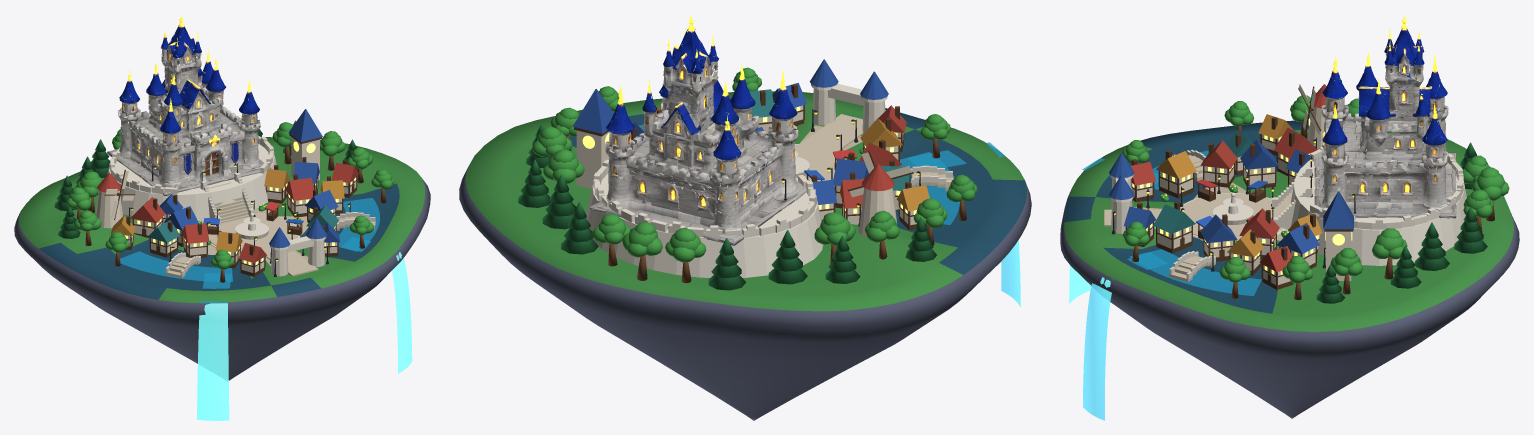
Rendered from kingdom_town_diorama.glb.
3 renders of one model, left to right at view 1: azimuth 30°, elevation 25°; view 2: azimuth 150°, elevation 25°; view 3: azimuth 270°, elevation 25°, orthographic. The views are drawn at different scales.
Visible parts, largest first — view 1: Island_Kingdom_Town_Base, Castle_Kingdom_Town_Hero, Water_Waterfalls_Animated, Kingdom_Citadel_Terrace, Town_Broadleaf_Foliage, Town_Buildings_Plaster, Town_Buildings_Timber, Town_Marble_Fountain_Gate, Town_Roofs_Blue, Water_Moat_Animated, Town_Cobblestone_Stairs_Plaza, Town_Roofs_Red (+7 smaller); view 2: Island_Kingdom_Town_Base, Castle_Kingdom_Town_Hero, Town_Broadleaf_Foliage, Kingdom_Citadel_Terrace, Town_Pine_Foliage, Town_Roofs_Blue, Town_Buildings_Plaster, Town_Marble_Fountain_Gate, Town_Cobblestone_Stairs_Plaza, Town_Roofs_Red, Town_Buildings_Timber, Water_Moat_Animated (+5 smaller); view 3: Island_Kingdom_Town_Base, Castle_Kingdom_Town_Hero, Town_Broadleaf_Foliage, Kingdom_Citadel_Terrace, Town_Buildings_Timber, Town_Buildings_Plaster, Town_Roofs_Blue, Town_Pine_Foliage, Water_Waterfalls_Animated, Town_Roofs_Red, Town_Marble_Fountain_Gate, Town_Cobblestone_Stairs_Plaza (+6 smaller).
Part boxes in pixels (<box>): Island_Kingdom_Town_Base: <box>14,137,430,380</box>; Castle_Kingdom_Town_Hero: <box>107,15,271,195</box>; Water_Waterfalls_Animated: <box>197,252,412,420</box>; Kingdom_Citadel_Terrace: <box>107,126,276,222</box>; Town_Broadleaf_Foliage: <box>66,115,394,269</box>; Town_Buildings_Plaster: <box>96,137,356,272</box>; Town_Buildings_Timber: <box>126,134,357,276</box>; Town_Marble_Fountain_Gate: <box>165,172,375,276</box>; Town_Roofs_Blue: <box>160,109,340,248</box>; Water_Moat_Animated: <box>120,198,400,303</box>; Town_Cobblestone_Stairs_Plaza: <box>165,182,375,277</box>; Town_Roofs_Red: <box>97,162,358,262</box>; Island_Kingdom_Town_Base: <box>459,91,1031,420</box>; Castle_Kingdom_Town_Hero: <box>589,14,806,245</box>; Town_Broadleaf_Foliage: <box>532,67,977,262</box>; Kingdom_Citadel_Terrace: <box>586,147,823,277</box>; Town_Pine_Foliage: <box>518,124,936,290</box>; Town_Roofs_Blue: <box>573,59,888,204</box>; Town_Buildings_Plaster: <box>576,105,916,237</box>; Town_Marble_Fountain_Gate: <box>768,83,952,187</box>; Town_Cobblestone_Stairs_Plaza: <box>773,114,953,190</box>; Town_Roofs_Red: <box>620,105,906,208</box>; Town_Buildings_Timber: <box>574,84,927,230</box>; Water_Moat_Animated: <box>638,124,1005,224</box>; Island_Kingdom_Town_Base: <box>1060,120,1519,418</box>; Castle_Kingdom_Town_Hero: <box>1314,14,1456,218</box>; Town_Broadleaf_Foliage: <box>1122,95,1509,283</box>; Kingdom_Citadel_Terrace: <box>1291,136,1466,265</box>; Town_Buildings_Timber: <box>1125,117,1353,289</box>; Town_Buildings_Plaster: <box>1127,107,1351,284</box>; Town_Roofs_Blue: <box>1109,139,1353,253</box>; Town_Pine_Foliage: <box>1316,111,1487,303</box>; Water_Waterfalls_Animated: <box>1069,166,1111,420</box>; Town_Roofs_Red: <box>1130,84,1334,272</box>; Town_Marble_Fountain_Gate: <box>1109,149,1312,279</box>; Town_Cobblestone_Stairs_Plaza: <box>1104,155,1292,281</box>.
Size of the model in its own units: 50.97 by 44.05 by 45.29.
Materials: 25 (1 with a texture image).
